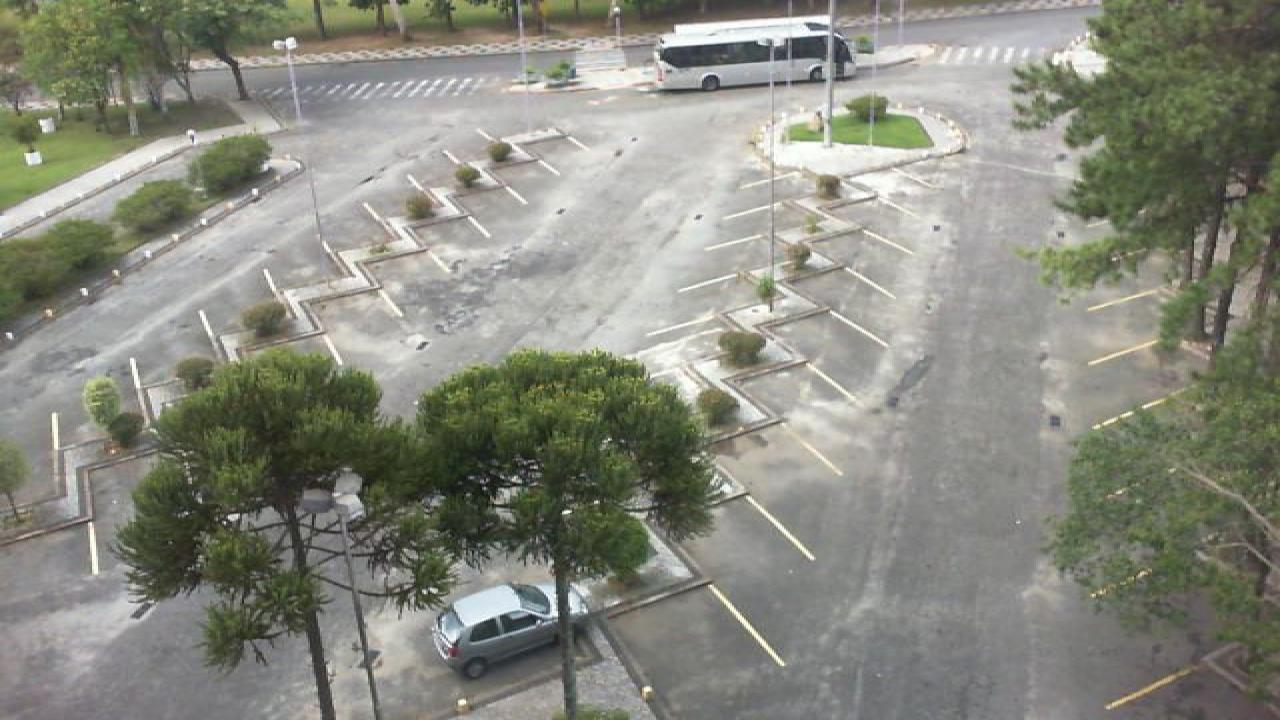Car: (430, 582, 590, 680)
